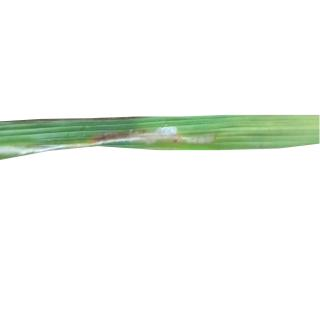Hawar-Daun: (90, 133, 218, 147), (149, 124, 180, 147), (0, 142, 44, 153)
